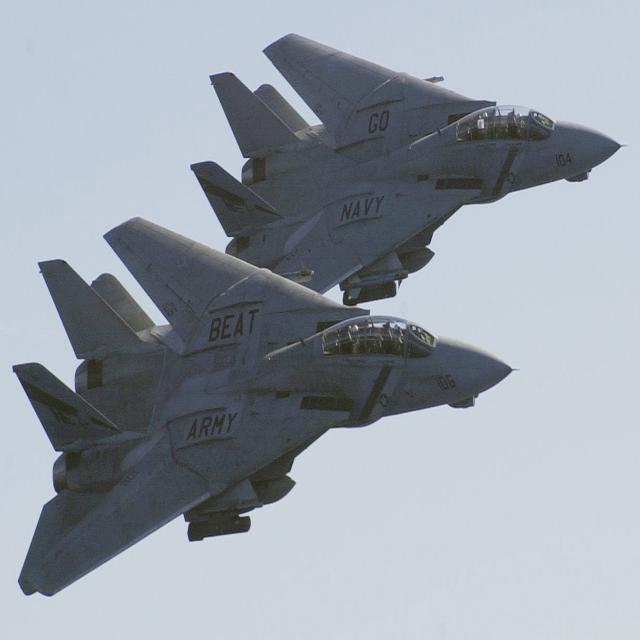MIL_Plane: (12, 216, 521, 597), (190, 32, 628, 306)
